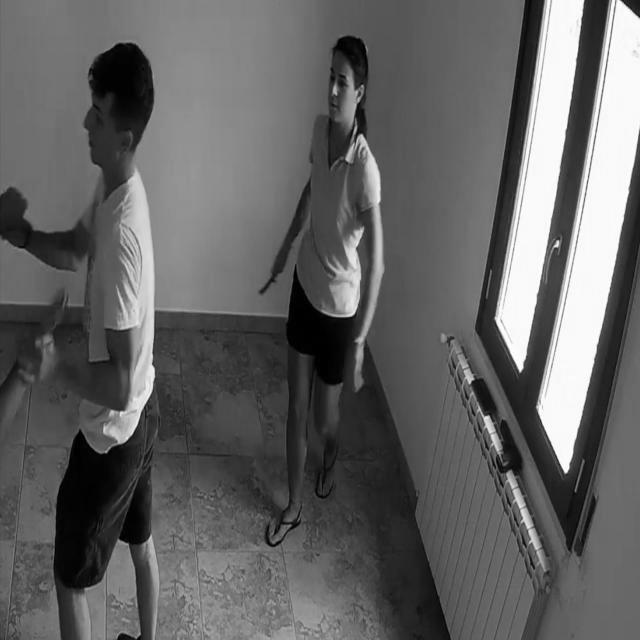weapon: (256, 274, 278, 297)
